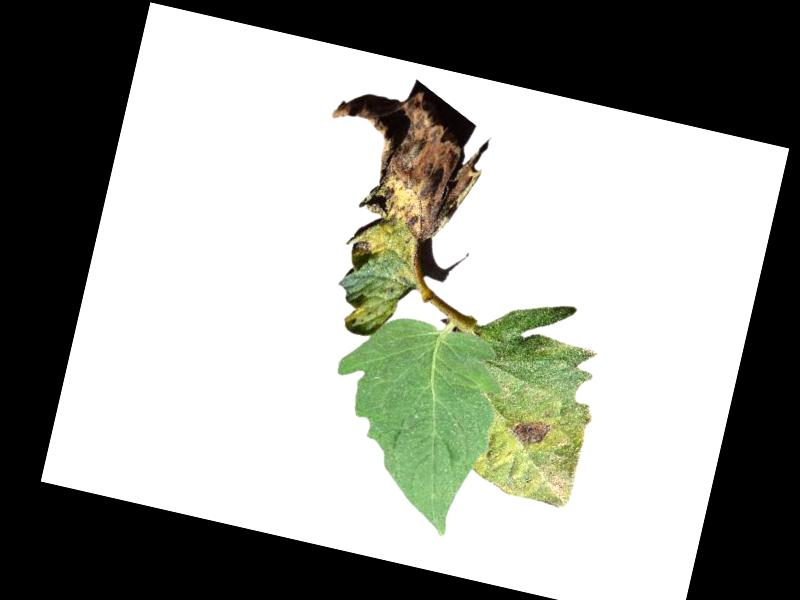Early_blight: (297, 71, 497, 280), (508, 416, 552, 453)
healthy: (303, 304, 510, 543)
